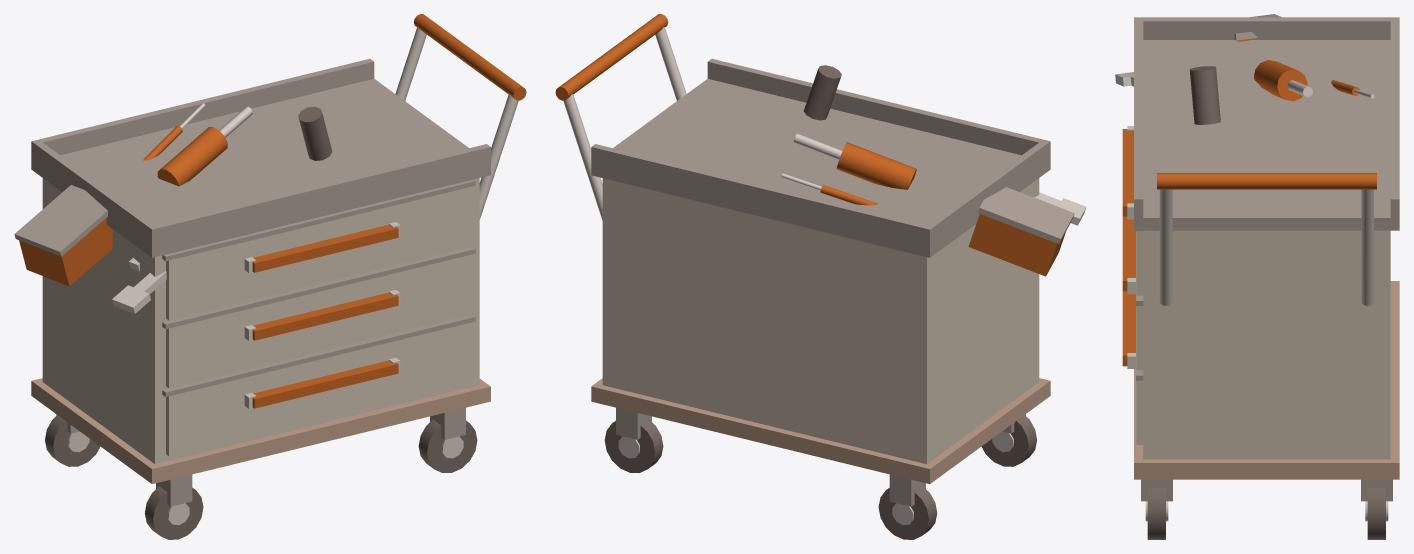
Rendered from D21_tool_cart.glb.
3 views of the same model, side by side, from view 1: azimuth 30°, elevation 25°; view 2: azimuth 150°, elevation 25°; view 3: azimuth 270°, elevation 25° (orthographic). The views are drawn at different scales.
Visible parts, largest first — view 1: drawer_front (×3), worktop, cabinet, top_rail (×3), chassis, drawer_gap (×3), drawer_handle (×3), caster_wheel (×3), parts_box_lid, parts_box, handle_arm (×2), drill_body (+5 smaller); view 2: cabinet, worktop, top_rail (×3), chassis, caster_wheel (×3), parts_box, parts_box_lid, drill_body, handle_arm (×2), push_handle, caster_fork (×2), spray_can; view 3: cabinet, worktop, top_rail (×3), chassis, push_handle, handle_arm (×2), drawer_handle (×3), caster_wheel (×2), spray_can, drawer_front (×3), drill_body, caster_fork (×2) (+1 smaller).
Boxes of the visible parts, box(x1,y1,x2,y2) form: drawer_front (×3): box(166, 187, 471, 456); worktop: box(31, 78, 490, 257); cabinet: box(42, 178, 479, 464); top_rail (×3): box(31, 59, 490, 248); chassis: box(31, 378, 490, 483); drawer_gap (×3): box(162, 179, 475, 396); drawer_handle (×3): box(252, 224, 398, 408); caster_wheel (×3): box(45, 415, 477, 539); parts_box_lid: box(14, 185, 107, 256); parts_box: box(19, 218, 112, 286); handle_arm (×2): box(395, 27, 518, 219); drill_body: box(157, 126, 227, 186); cabinet: box(602, 178, 1039, 464); worktop: box(591, 79, 1050, 257); top_rail (×3): box(591, 58, 1050, 248); chassis: box(591, 378, 1050, 483); caster_wheel (×3): box(604, 415, 1036, 539); parts_box: box(968, 214, 1065, 276); parts_box_lid: box(978, 187, 1074, 243); drill_body: box(836, 142, 916, 189); handle_arm (×2): box(563, 27, 686, 220); push_handle: box(555, 14, 668, 100); caster_fork (×2): box(616, 407, 925, 506); spray_can: box(804, 65, 841, 120); cabinet: box(1143, 230, 1390, 459); worktop: box(1134, 40, 1399, 230); top_rail (×3): box(1134, 17, 1399, 220); chassis: box(1134, 281, 1399, 479); push_handle: box(1157, 173, 1376, 189); handle_arm (×2): box(1159, 189, 1373, 305); drawer_handle (×3): box(1122, 129, 1135, 366); caster_wheel (×2): box(1147, 487, 1385, 539); spray_can: box(1189, 66, 1220, 124); drawer_front (×3): box(1136, 231, 1143, 444); drill_body: box(1254, 60, 1307, 101); caster_fork (×2): box(1141, 479, 1392, 501).
Bounding box in the file's own units: 1.27 × 0.9856 × 0.6211.
